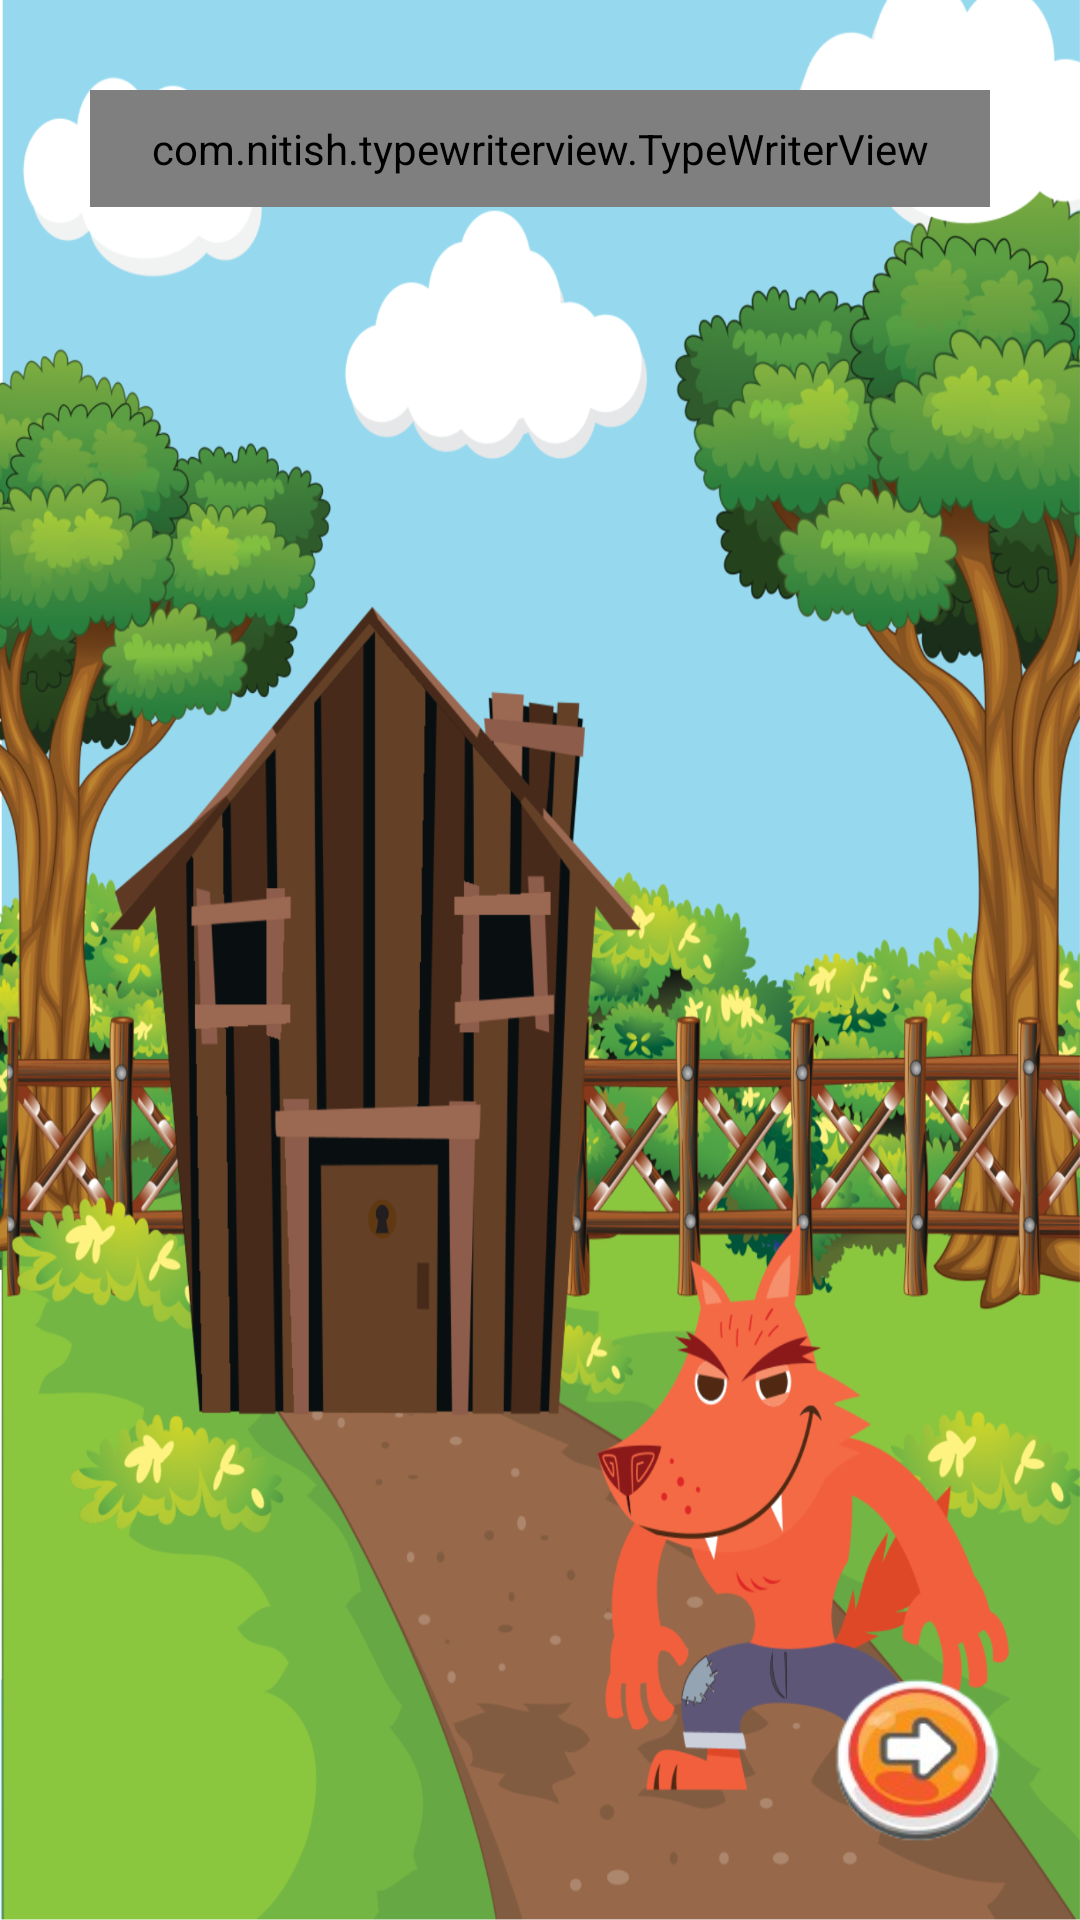

Named icons in this screenshot (1080px×1920px) and their centers, [x,y]:
next: [918,1758]
